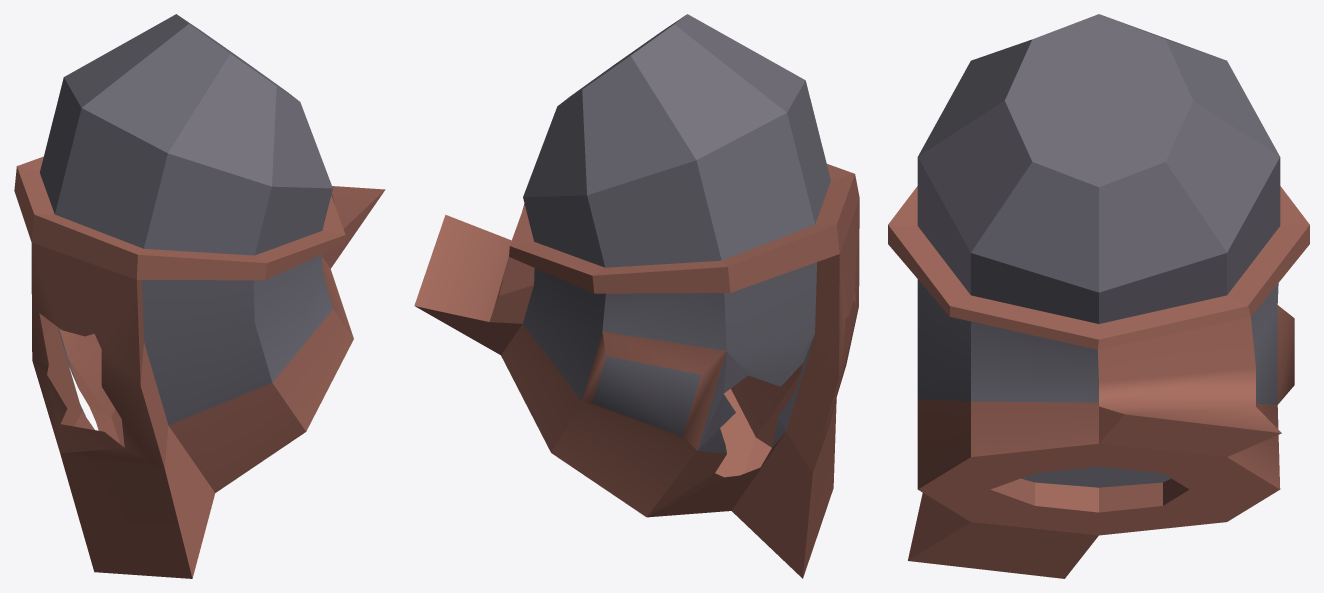
File: MediumSpaceTrash_kind3_optimized.fbx
3 renders of one model, left to right at view 1: azimuth 30°, elevation 25°; view 2: azimuth 150°, elevation 25°; view 3: azimuth 270°, elevation 25°, orthographic. The views are drawn at different scales.
Parts seen in each view (by area): view 1: pCylinder4; view 2: pCylinder4; view 3: pCylinder4.
Part boxes in pixels (x1=…): pCylinder4: x1=14, y1=14, x2=385, y2=578; pCylinder4: x1=414, y1=14, x2=859, y2=578; pCylinder4: x1=888, y1=14, x2=1309, y2=578.
Bounding box in the file's own units: 286 × 384 × 233.
